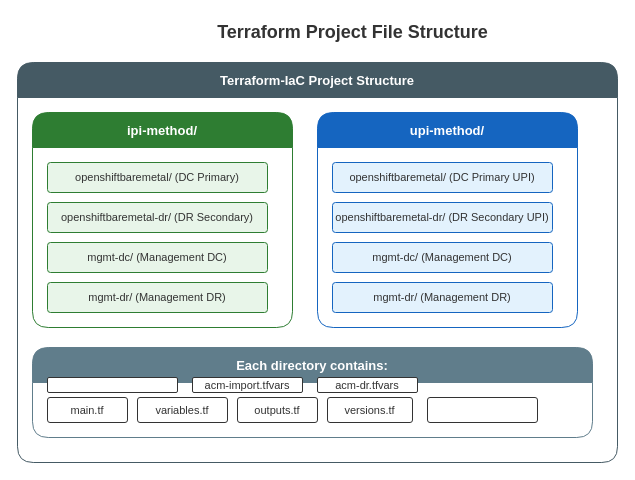
Some shapes in this 635 by 480 pixel diagram are drawn without their labels. The centre of each missing label's shape, as x and y in pixels:
day2-terraform.tfvars: the point at 112,384
terraform.tfvars: the point at 482,409
